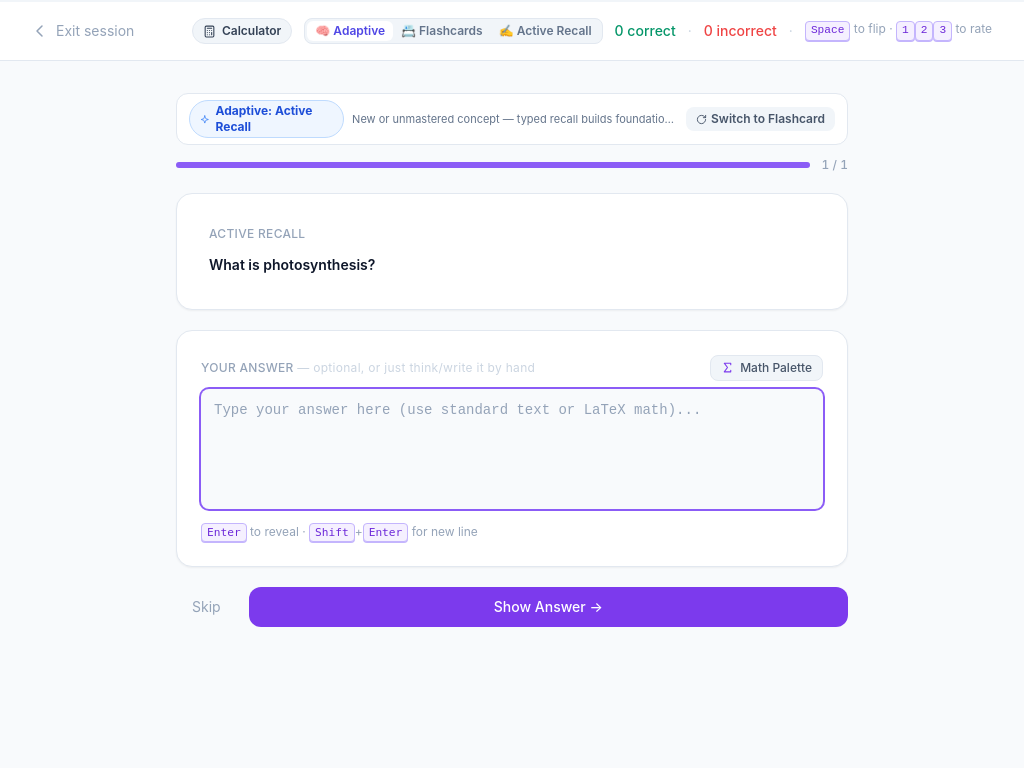
Test: Unified Hybrid Adaptive Study Session › allows live switching between Flashcard and Active Recall on the fly
The width and height of the screenshot is (1024, 768).
Click the button "Switch to Flashcard" at coordinates (760, 119), box [686,107,835,131]
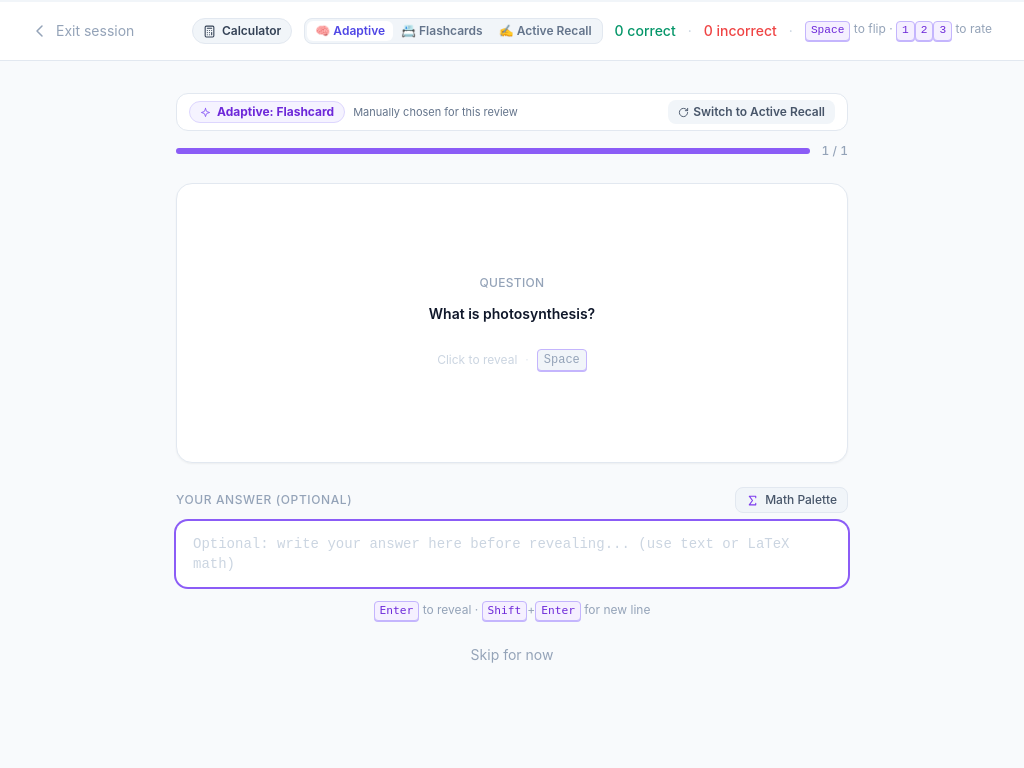
Expected: the text "Adaptive: Flashcard" is shown, [189,101,345,123]
Expected: the button "Switch to Active Recall" is shown, [668,100,835,124]
